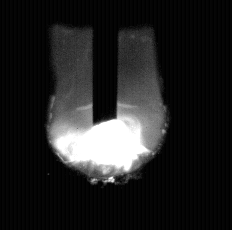arame: (94, 0, 118, 126)
poca: (46, 0, 164, 230)
